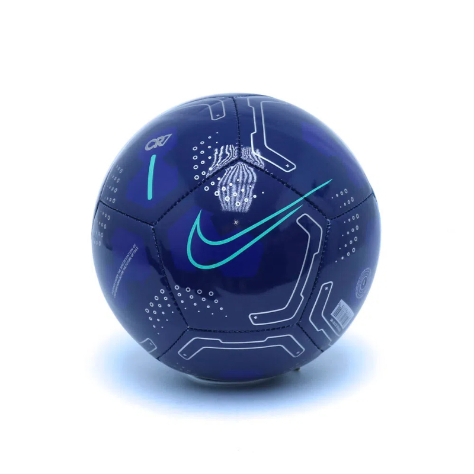ball: (78, 83, 397, 400)
